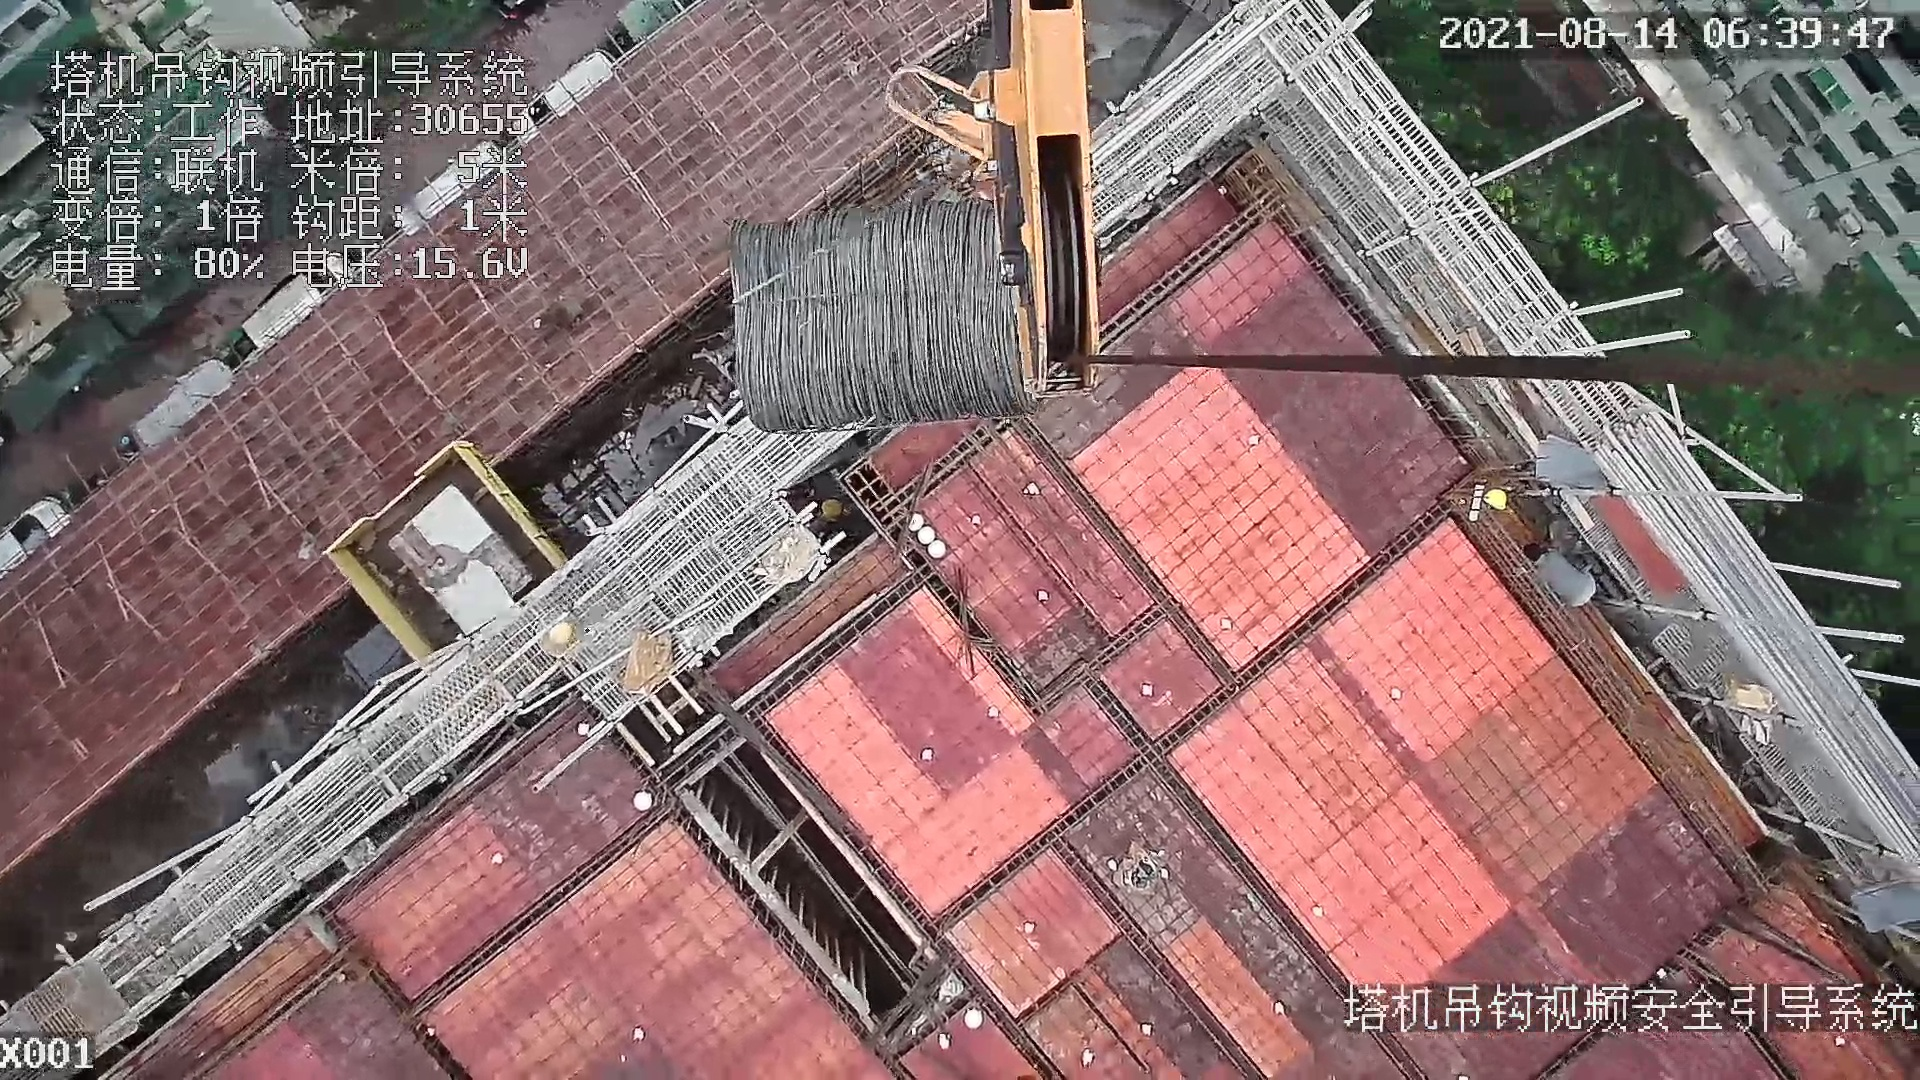hook: (876, 17, 1104, 397)
person: (1520, 536, 1619, 613)
